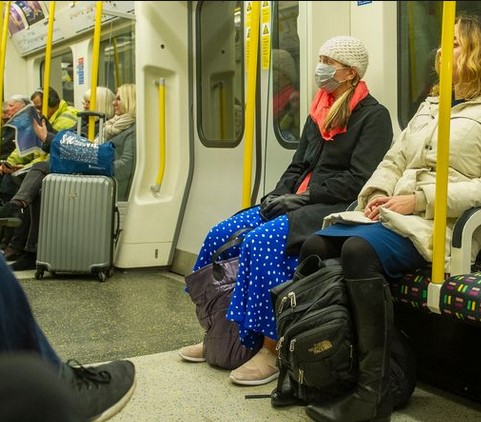face_no_mask: (450, 19, 481, 82), (28, 88, 58, 119), (110, 84, 135, 117), (80, 86, 105, 114), (2, 95, 23, 118)
face_with_mask: (314, 35, 369, 96)
